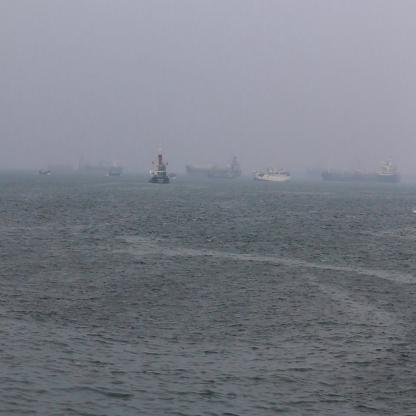Container Ship: (320, 157, 401, 183), (184, 153, 244, 176), (150, 141, 170, 185), (78, 156, 126, 171), (252, 166, 291, 182), (45, 160, 74, 170)
